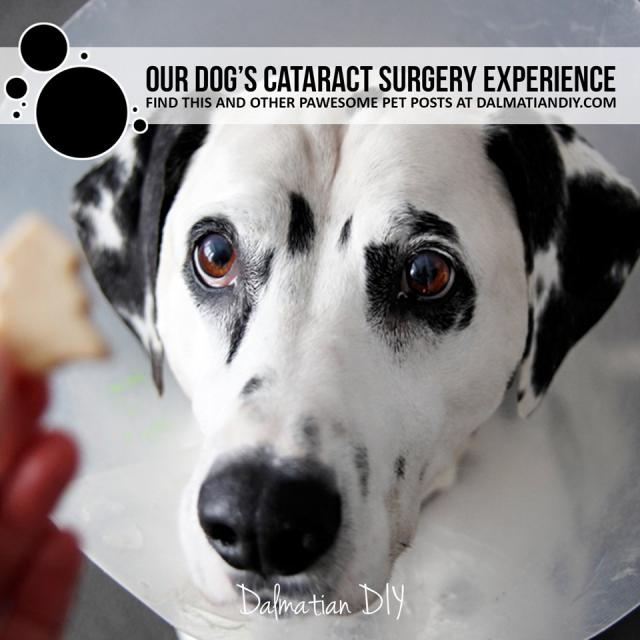eye: (392, 245, 466, 314), (184, 223, 244, 296)
